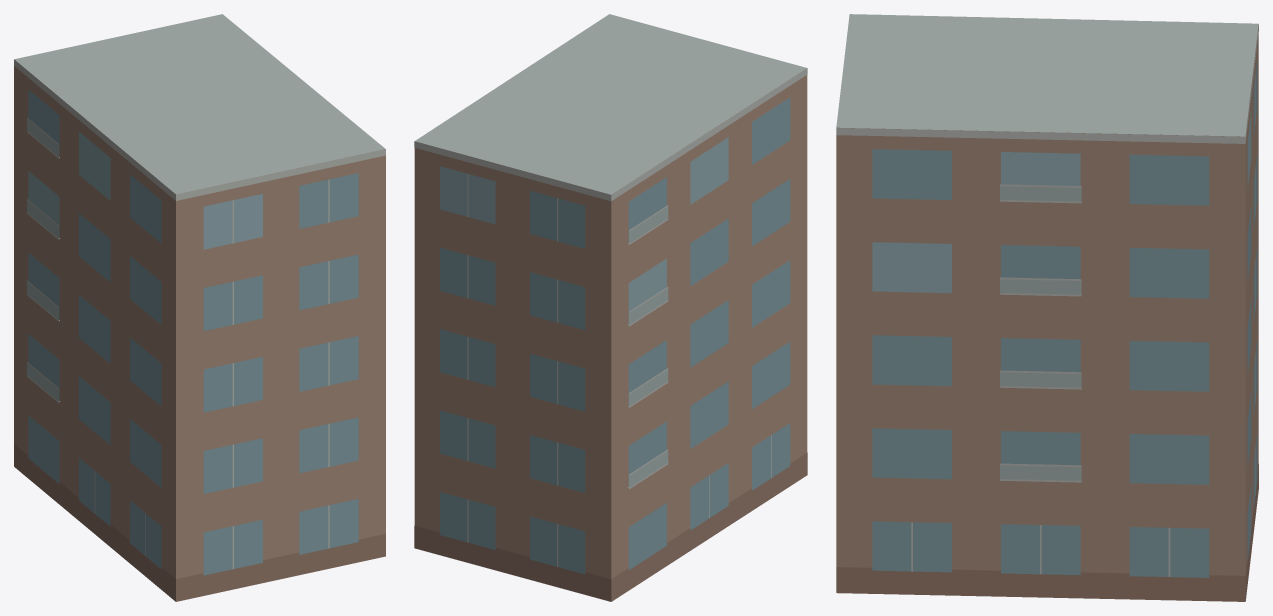
The model's file is survey-upis-33041423.glb.
3 views of the same model, side by side, from view 1: azimuth 30°, elevation 25°; view 2: azimuth 150°, elevation 25°; view 3: azimuth 270°, elevation 25° (orthographic). The views are drawn at different scales.
Visible parts, largest first — view 1: survey-upis-33041423.tmp; view 2: survey-upis-33041423.tmp; view 3: survey-upis-33041423.tmp.
Part boxes in pixels (x1,y1,x2,y2): survey-upis-33041423.tmp: [14, 14, 385, 601]; survey-upis-33041423.tmp: [414, 14, 807, 601]; survey-upis-33041423.tmp: [836, 14, 1258, 601].
Size of the model in its own units: 8.65 by 15.3 by 12.6.
